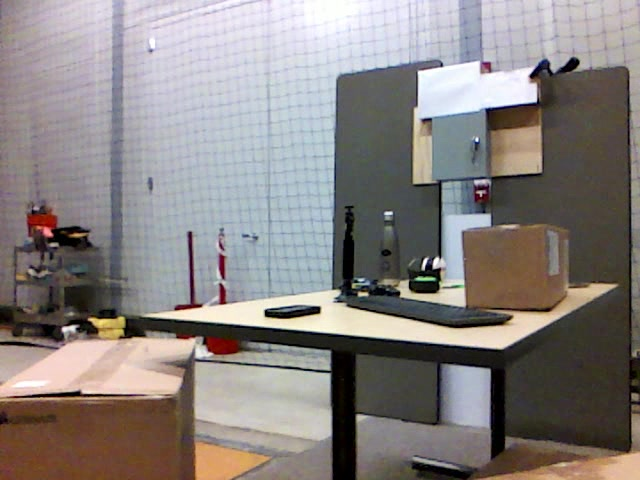box: (2, 342, 199, 480), (463, 226, 569, 310)
